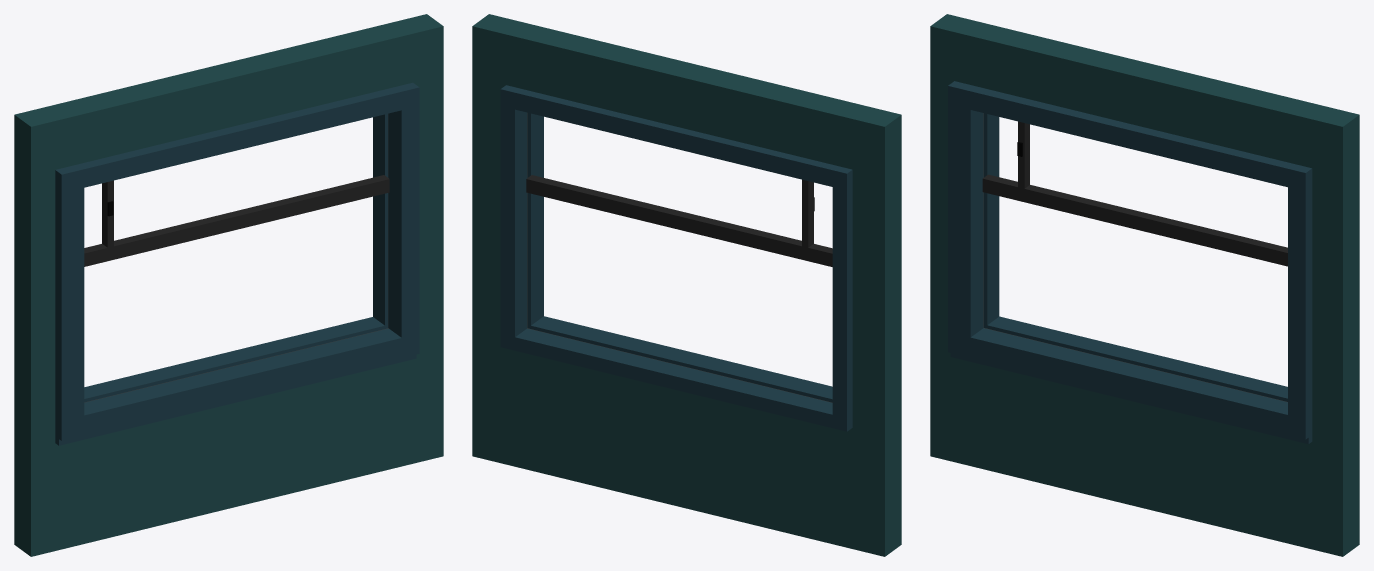
File: Bus-3.obj
3 renders of one model, left to right at view 1: azimuth 30°, elevation 25°; view 2: azimuth 150°, elevation 25°; view 3: azimuth 330°, elevation 25°, orthographic.
Bounding box in the file's own units: 25.6 × 25.5 × 3.1.
Materials: 1 (1 with a texture image).
